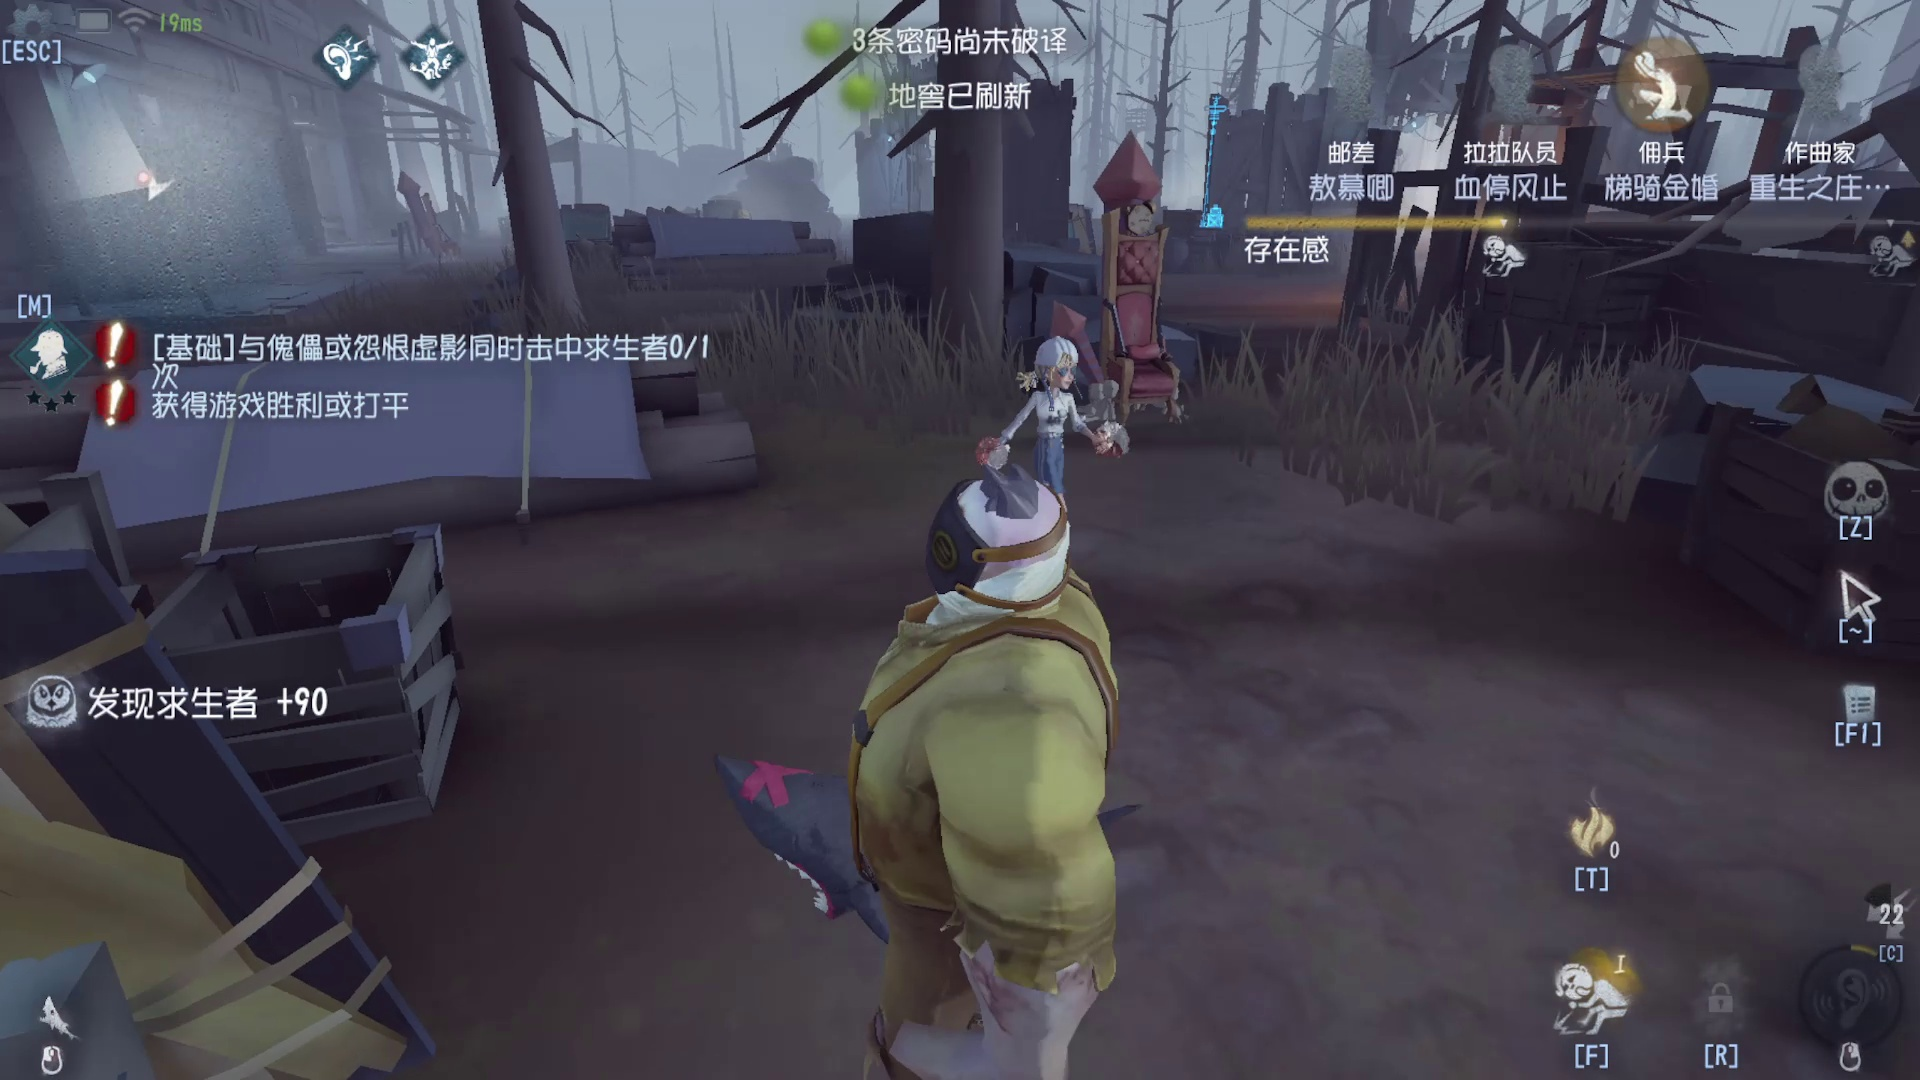求生者: (957, 328, 1138, 518)
狂欢之椅: (1068, 128, 1217, 418), (375, 162, 497, 262)
